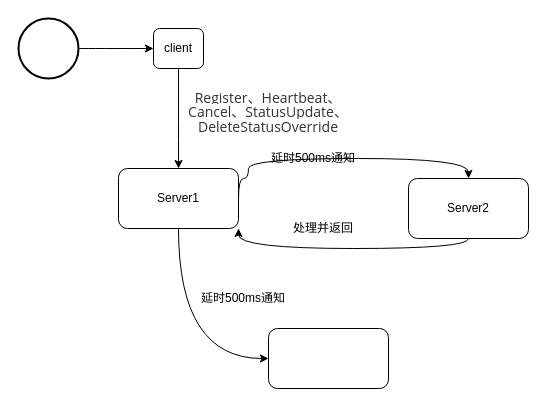
This 546x406 diagram has some shape labels left out. The shapes that lost their labels are listed below. From the top down, each one's centre as x and y in pixels, then its label:
At point 48,48: "开始".
At point 328,358: "Server3".
